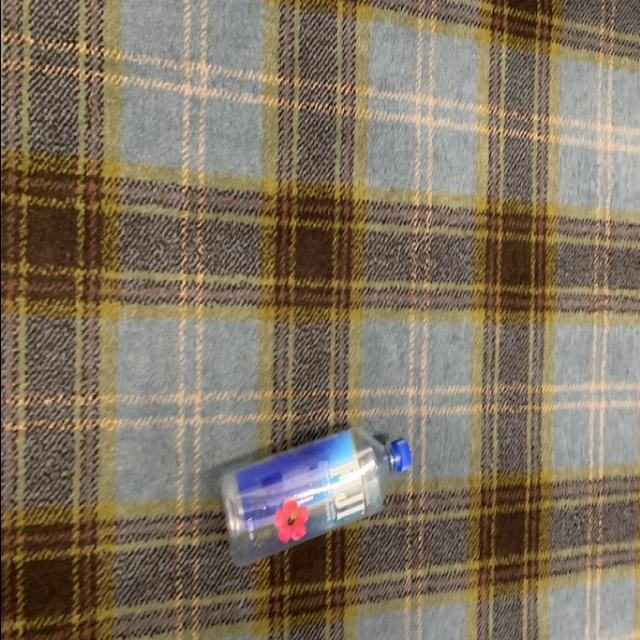litter: (212, 425, 414, 575)
